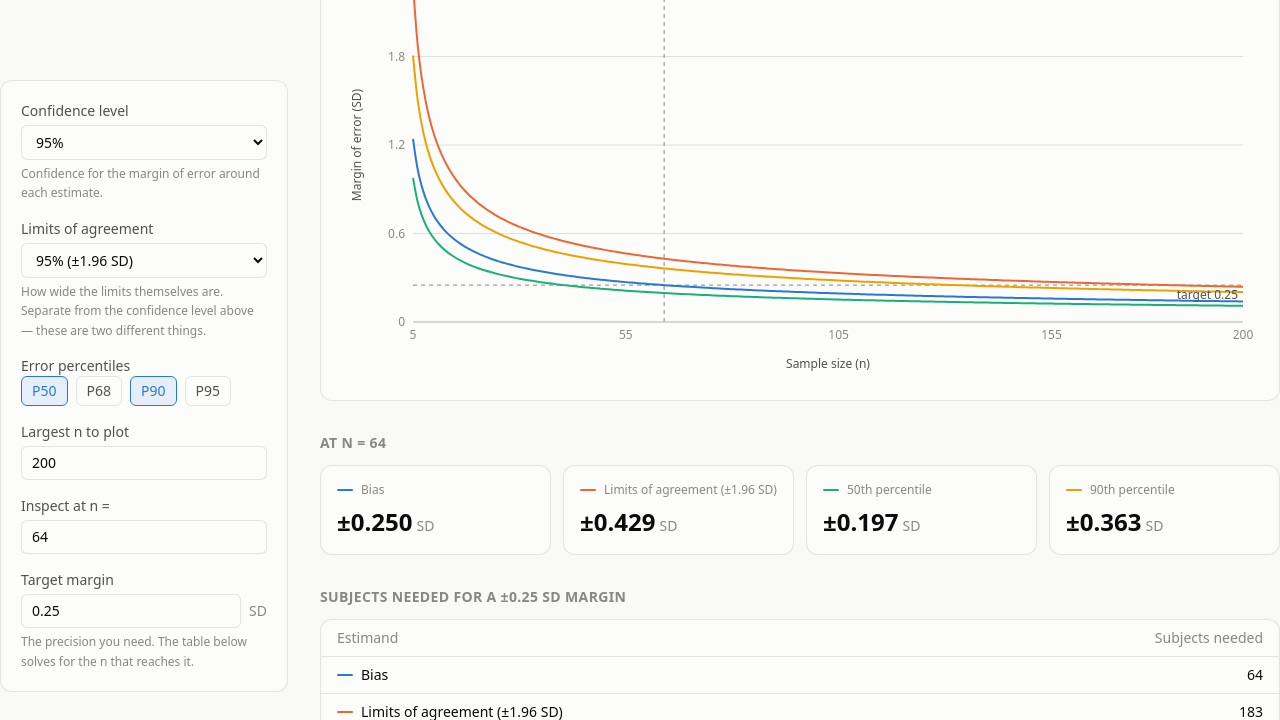
Test: PrecisionPage › recomputes when the inspection point changes
(page scrolled)
Replace the text in the number field labelled "Inspect at n =" with "30": [144, 538] box [21,520,267,554]
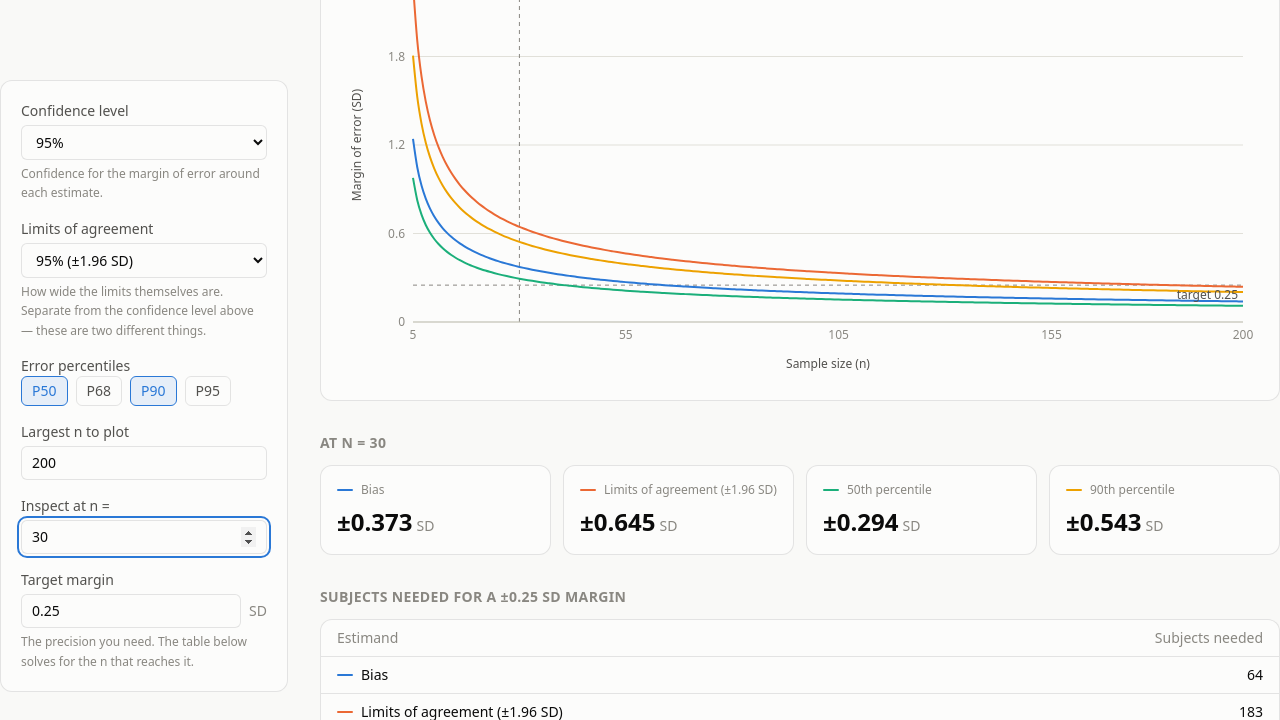
Expected: the heading "At n = 30" is shown, [320,433,386,452]
